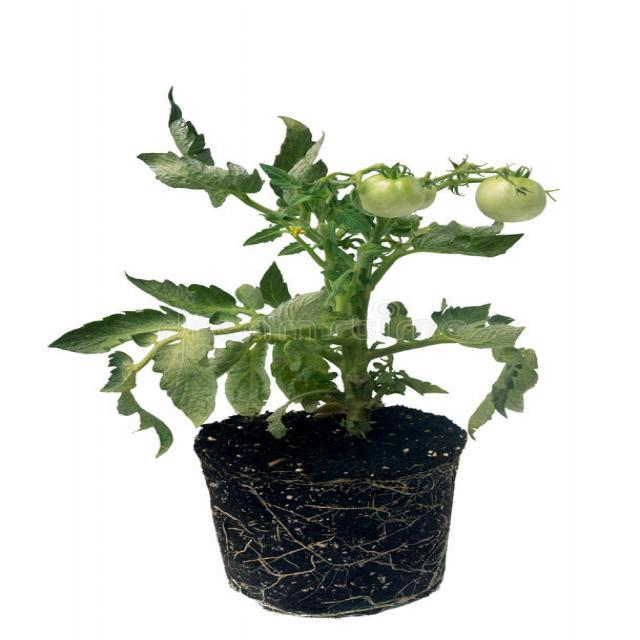tomato: (51, 89, 549, 455)
